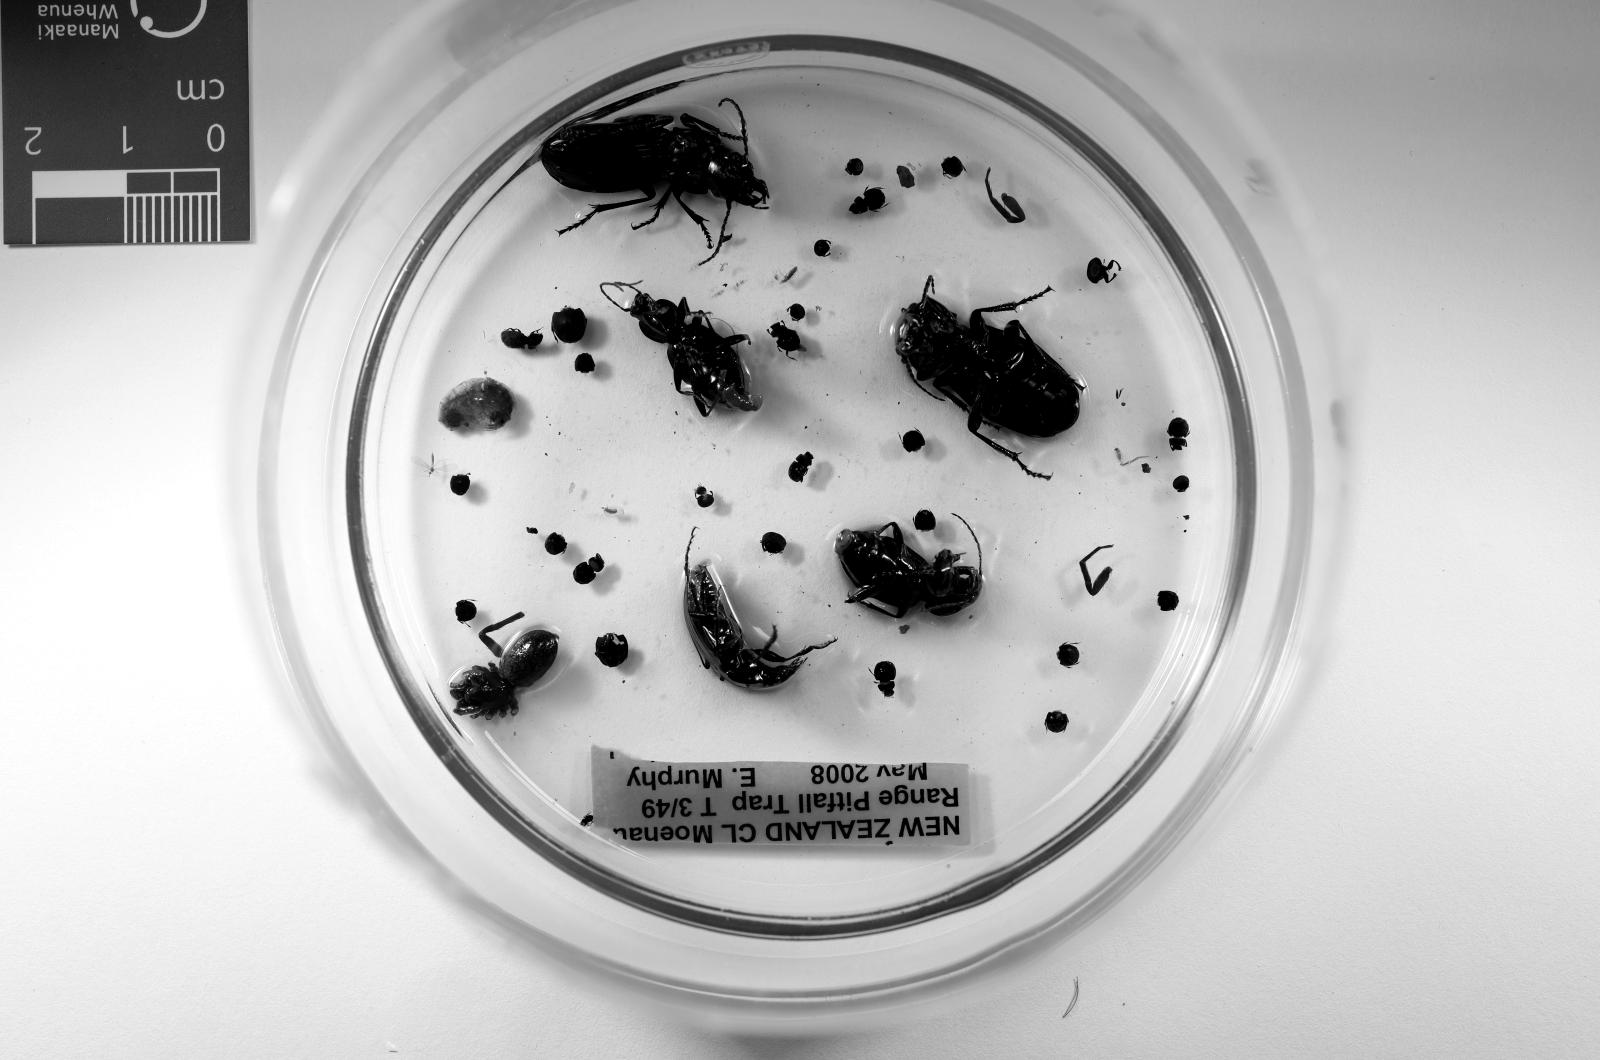amphipoda: (438, 379, 516, 428)
araneae: (451, 631, 559, 717)
carabidae: (896, 277, 1084, 438), (540, 103, 769, 233), (685, 543, 835, 690), (622, 286, 763, 416), (835, 522, 982, 618)
coleoptera: (769, 323, 807, 357), (850, 187, 887, 214), (572, 556, 603, 584), (872, 661, 896, 696), (500, 329, 544, 348), (788, 453, 812, 481), (1168, 416, 1187, 451), (694, 485, 715, 506)
